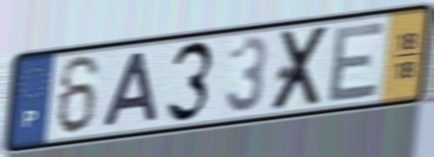3: (160, 39, 218, 126), (226, 33, 268, 117)
6: (55, 53, 103, 138)
A: (99, 49, 161, 131)
E: (325, 18, 388, 106)
X: (268, 22, 334, 115)
